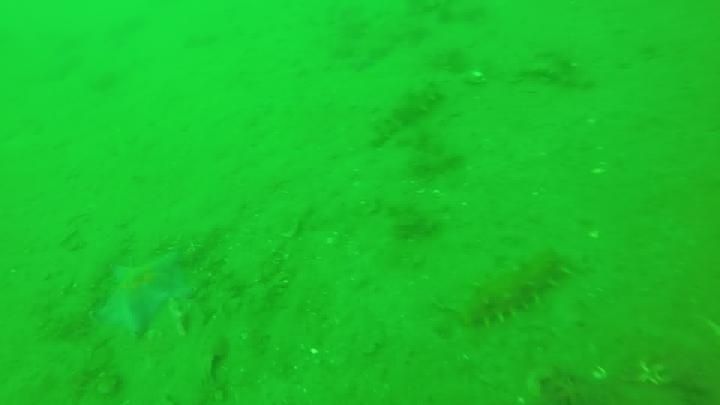holothurian: (458, 247, 579, 329), (366, 78, 445, 149)
starfish: (93, 248, 198, 341)
